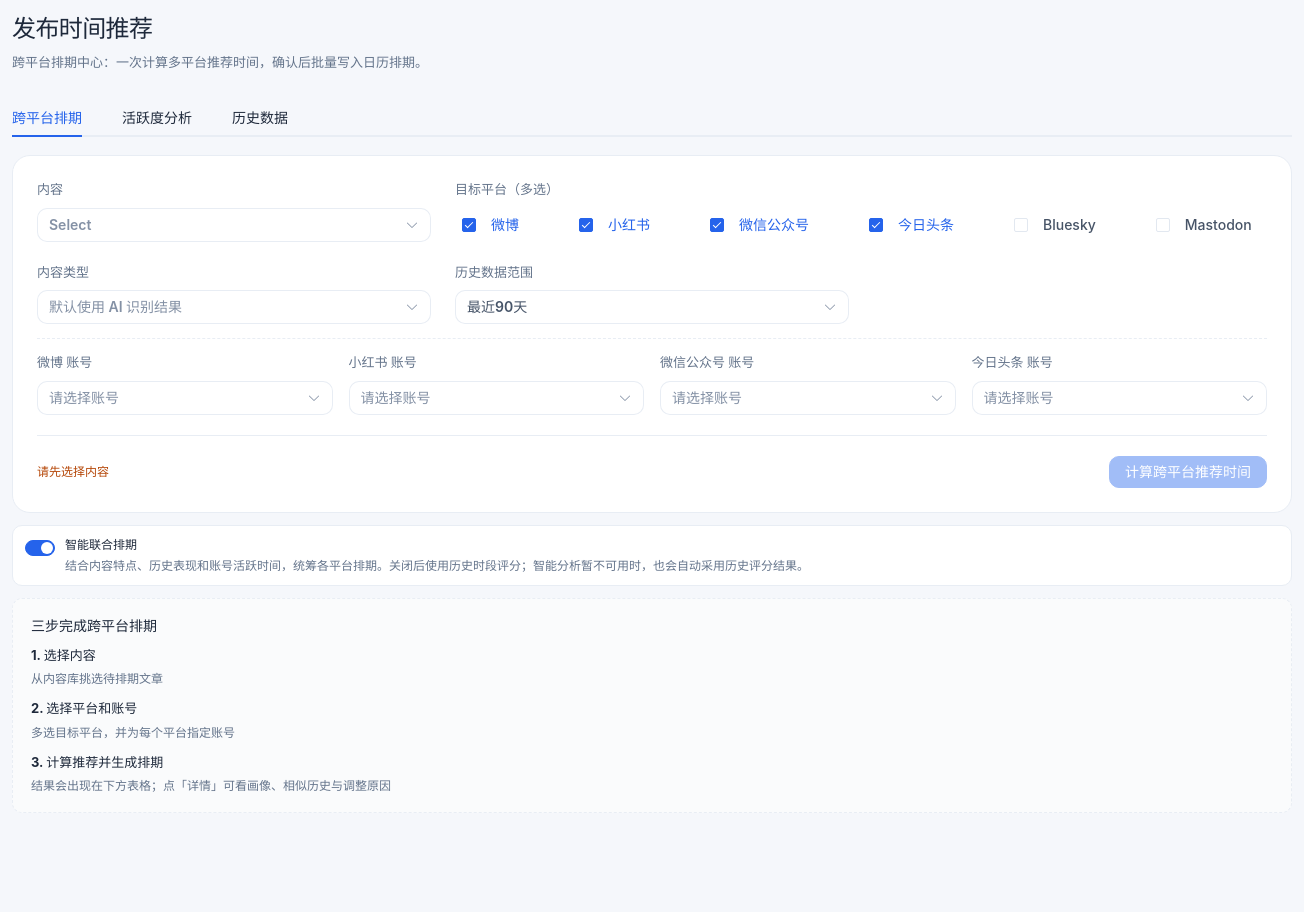
history import source choices before the first upload › loads authoritative input choices immediately and never offers aggregate MIXED
Click the tab "历史数据". click: (260, 117)
box: [232,108,288,126]
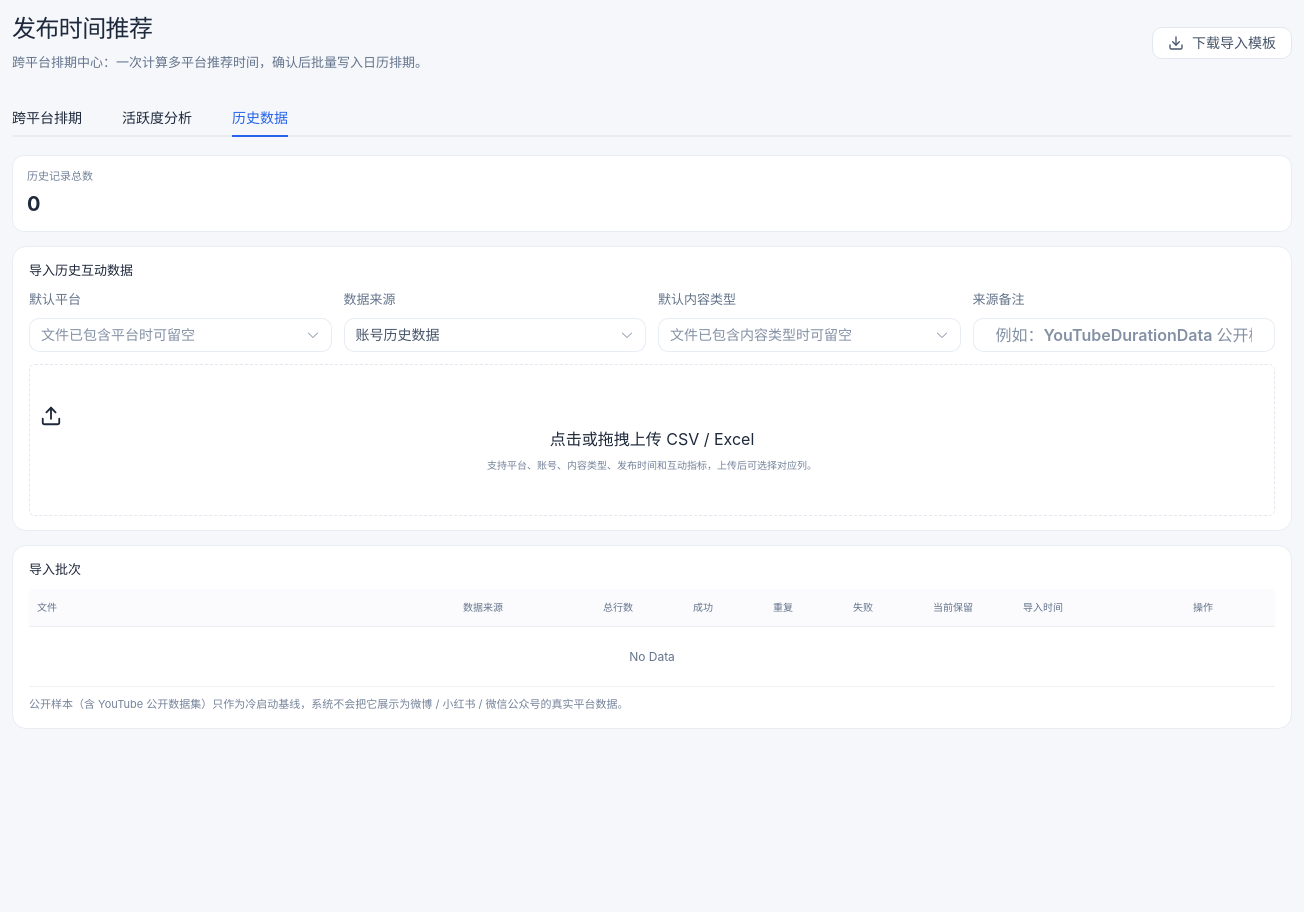
Click the element with test id "history-import-source". click: (495, 334)
box: [344,318,646,352]
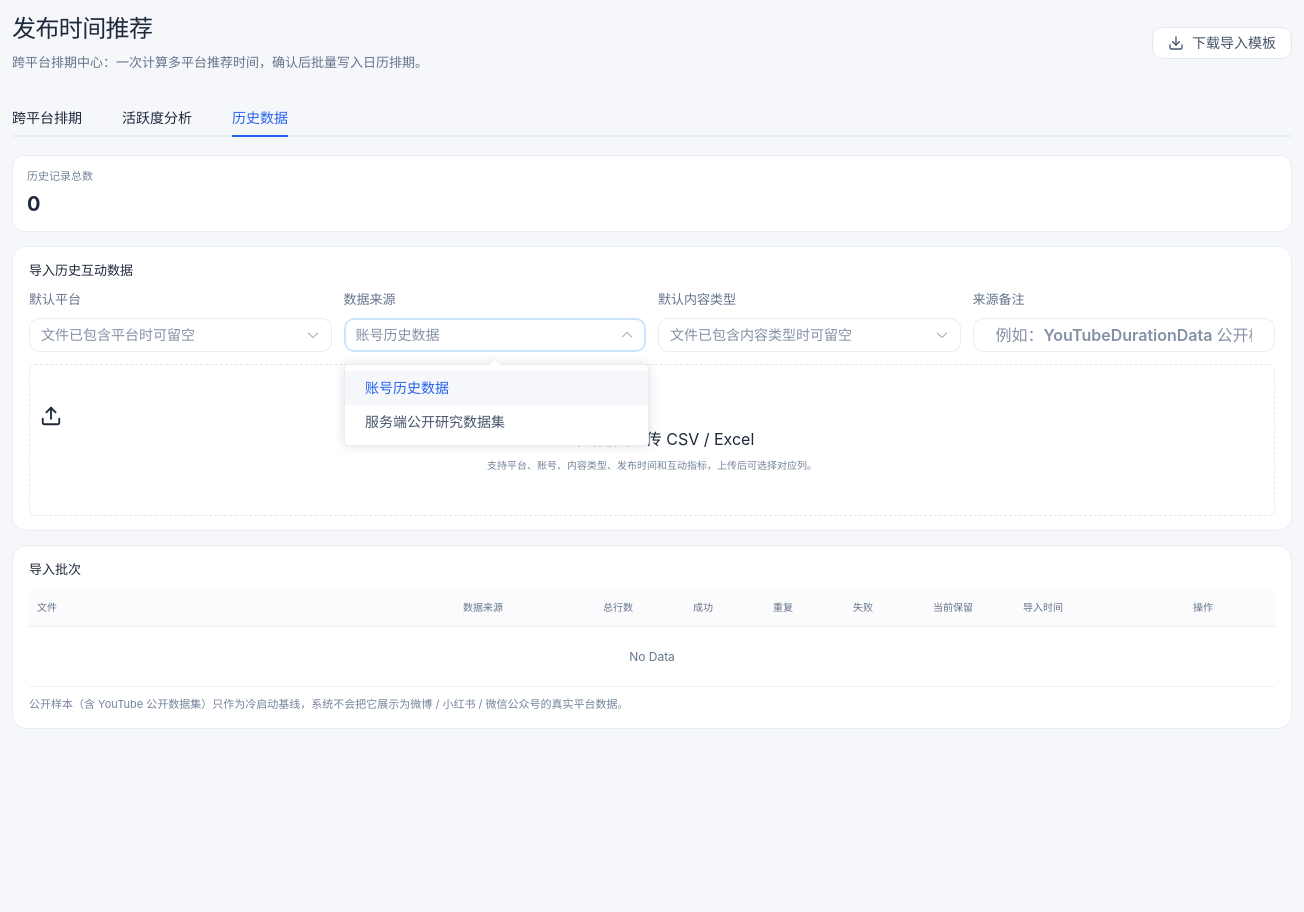
Expected: the option "服务端公开研究数据集" is shown, [365,413,505,430]
